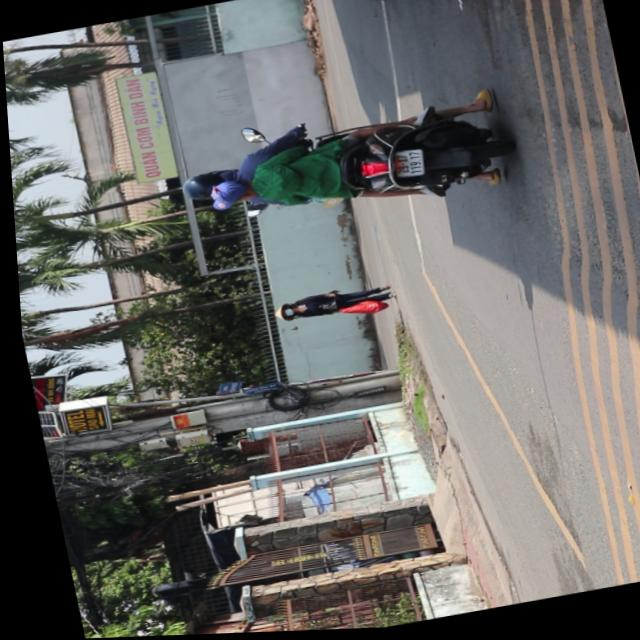helmet: (175, 171, 228, 206)
licenseplate: (164, 93, 519, 248)
motorcyclist: (204, 178, 255, 214)
nohelmet: (390, 153, 422, 182)
